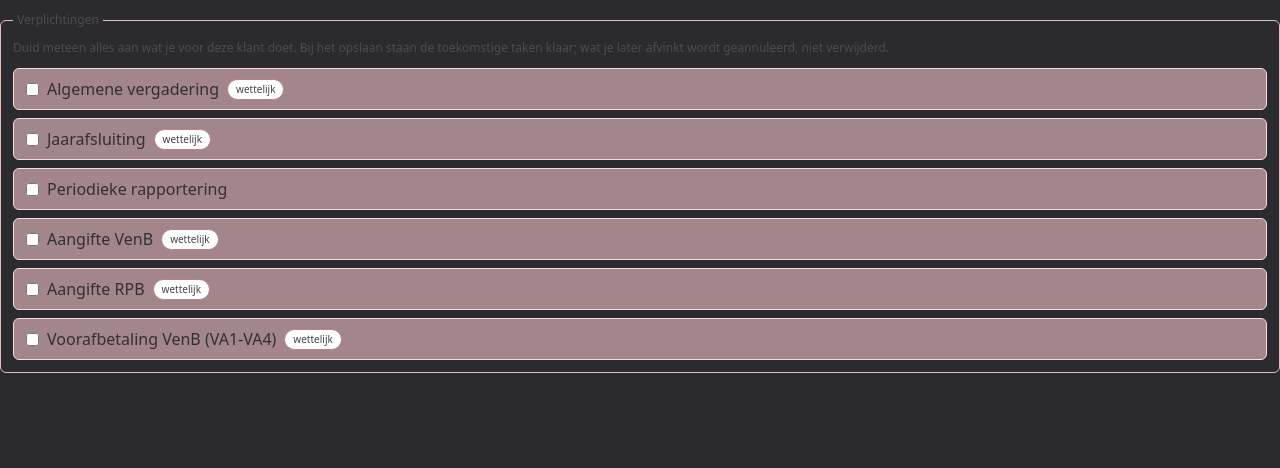
Test: ObligationPicker — getoonde standaardwaarden staan ook echt in parameters › schrijft frequentie en termijn_dagen weg zodra rapportering aangevinkt wordt
The width and height of the screenshot is (1280, 468).
Click the checkbox labelled "Periodieke rapportering".
click(32, 189)  # box [26,182,39,196]
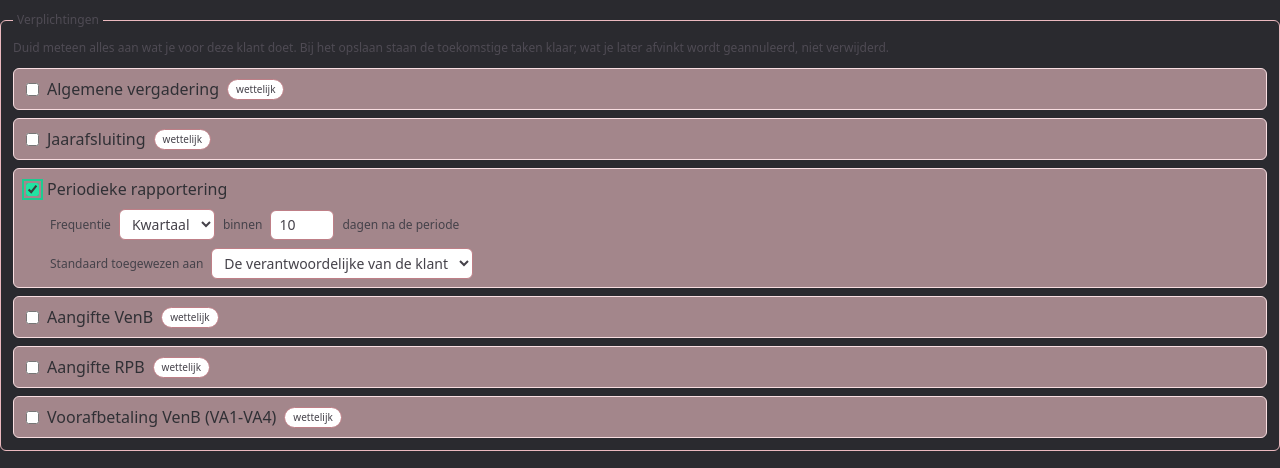
Expected: the dropdown labelled "Frequentie" shows "Kwartaal", [119,209,215,240]
Expected: the number field named "Termijn (dagen na periode)" holds "10", [270,210,334,240]
